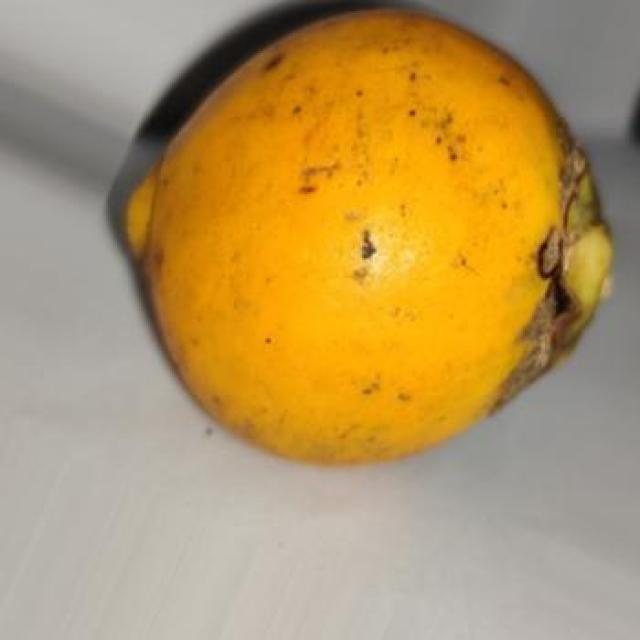good: (106, 7, 614, 468)
